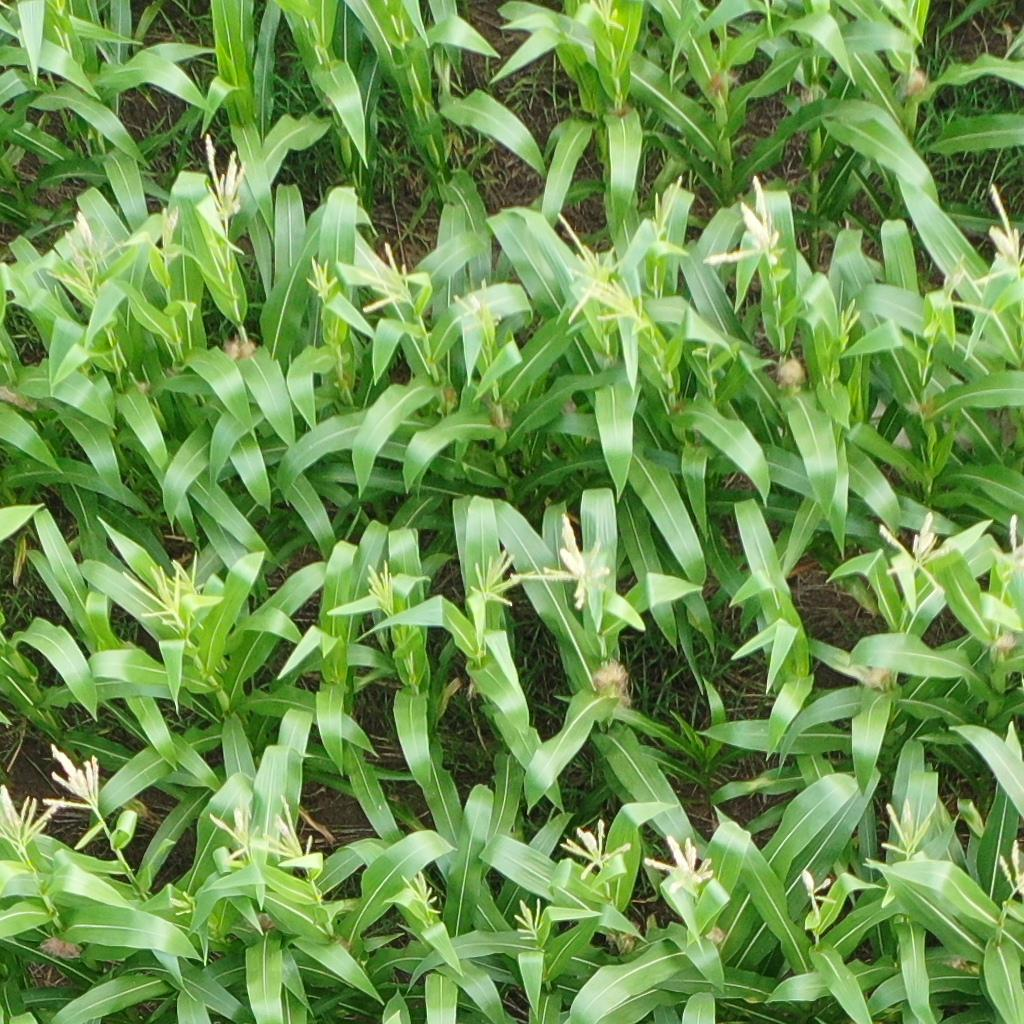Tassel: (512, 512, 610, 611), (550, 211, 627, 321), (700, 175, 787, 269), (874, 516, 956, 593), (348, 242, 422, 317), (971, 182, 1022, 288), (1, 784, 67, 858), (571, 267, 651, 327), (644, 836, 721, 897), (120, 562, 186, 631), (253, 794, 317, 864), (39, 744, 108, 808), (466, 547, 533, 610), (201, 133, 250, 219), (560, 819, 630, 879), (47, 234, 102, 308), (878, 797, 942, 859), (939, 256, 995, 316), (211, 798, 262, 863), (450, 278, 505, 328), (67, 211, 115, 267), (398, 866, 448, 918), (649, 176, 683, 238), (365, 558, 400, 618), (987, 513, 1024, 569), (993, 836, 1024, 898), (164, 549, 204, 596), (799, 868, 835, 920), (510, 897, 547, 942), (302, 255, 338, 295), (588, 1, 630, 32), (161, 207, 185, 253), (840, 298, 865, 339), (169, 890, 193, 915)
